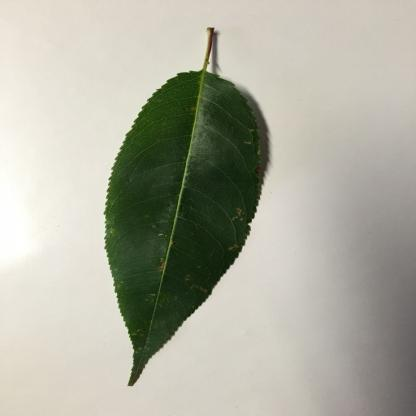cherry leaf: (99, 65, 274, 396)
